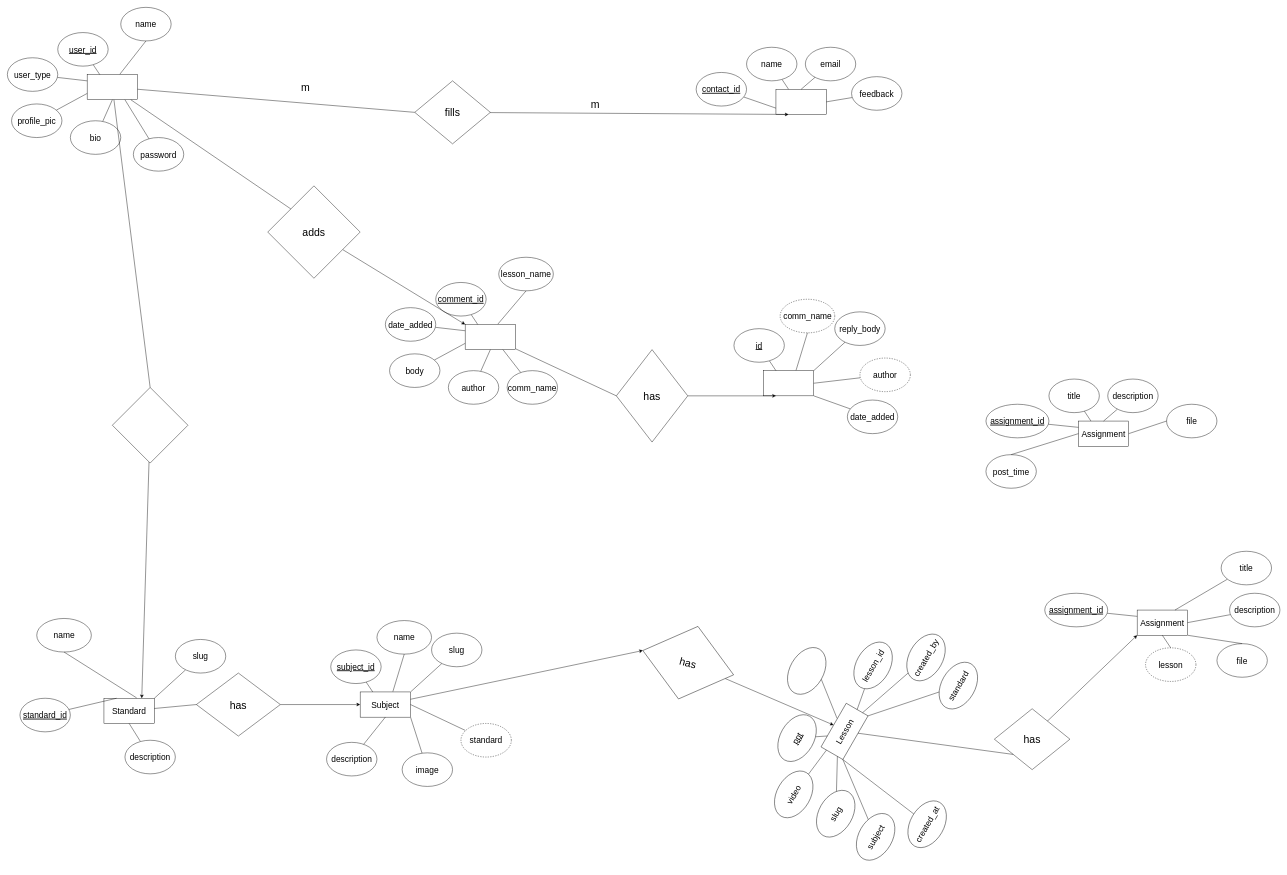
The diagram is 1287 pixels wide and 875 high, and some of its shapes have lost their labels. Each missing label, with the centre of its shape:
"Comment" belongs at point 490,337.
"Contact" belongs at point 801,101.
"notes" belongs at point 806,670.
"reads" belongs at point 150,425.
"Reply" belongs at point 788,383.
"User" belongs at point 112,87.
